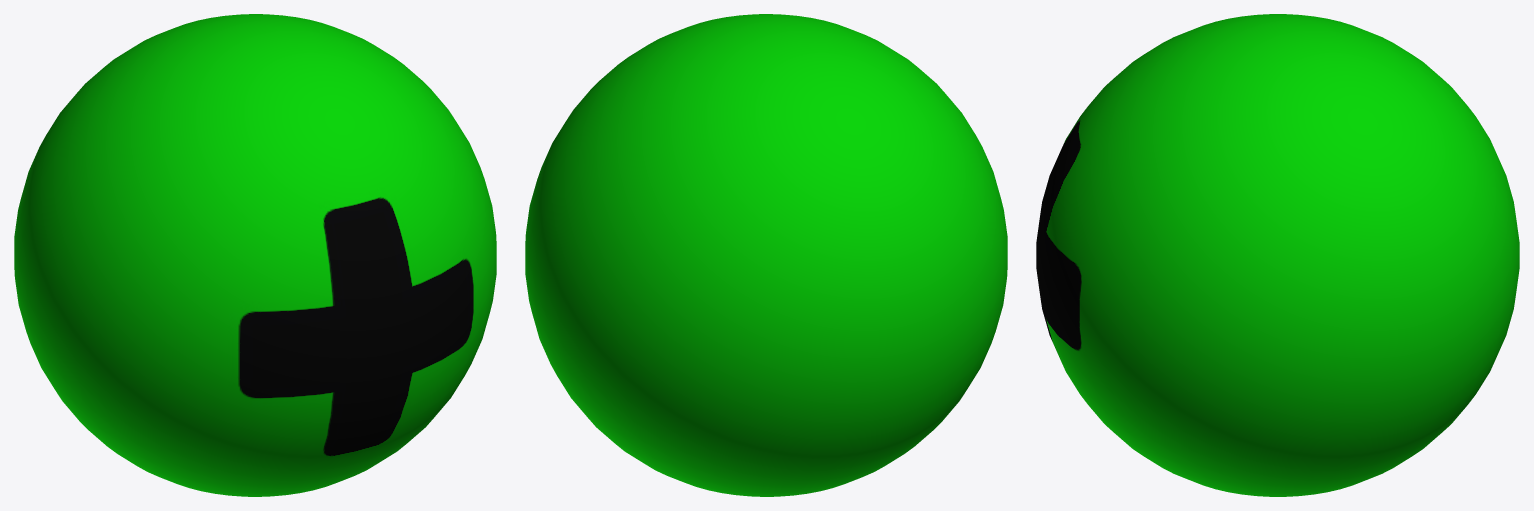
The model's file is soma.DAE.
The picture shows the model from 3 angles, left to right: view 1: azimuth 30°, elevation 25°; view 2: azimuth 150°, elevation 25°; view 3: azimuth 270°, elevation 25°; orthographic projection.
Parts seen in each view (by area): view 1: Sphere01; view 2: Sphere01; view 3: Sphere01.
Boxes of the visible parts, x1,y1,x2,y2 form: Sphere01: (14,14,496,496); Sphere01: (525,14,1007,496); Sphere01: (1036,14,1519,496).
Size of the model in its own units: 19.92 by 19.96 by 20.
